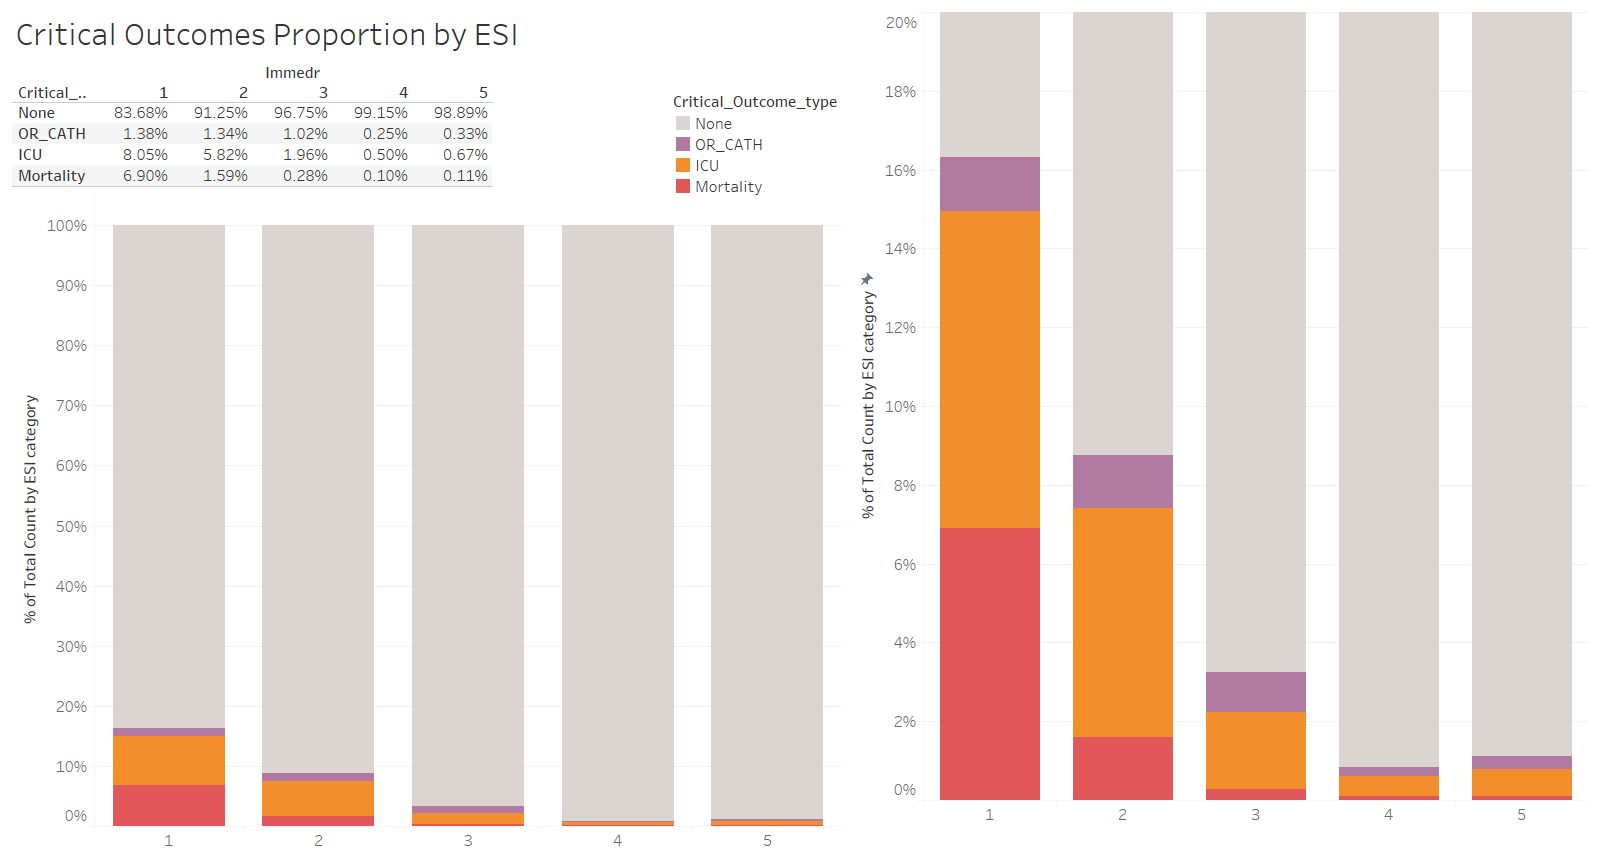

What the dashboard file says about the page in this screenshot:
{"tool":"tableau","page":{"name":"Dashboard 2","canvas":[1000,1000],"units":"permille","ordinal":1},"visuals":[{"type":"title","box":[6,13.3,523,83.2]},{"type":"worksheet","title":"Critical Outcomes Proportion","mark":"Automatic","cols":["IMMEDR"],"box":[529,13.3,465.1,973.4]},{"type":"worksheet","title":"Critical Outcomes Proportion (2)","mark":"Automatic","rows":["Calculation_663155077068849152"],"cols":["IMMEDR"],"box":[6,96.5,523,221.3]},{"type":"legend","title":"Critical Outcomes Proportion","param":"[federated.0lqj8g704y7h201dtm8pb11lsept].[none:Calculation_663155077068849152:nk","box":[418.2,100.7,115,179.6]},{"type":"worksheet","title":"Critical Outcomes Proportion (3)","mark":"Automatic","cols":["IMMEDR"],"box":[6,317.8,523,668.9]}]}

Visuals, with their boxes on the dashboard's canvas, which has no fixed pixel size, in thousandths of its width and height (x1, y1, x2, y2). These are canvas units, not pixel positions in the 1600x858 screenshot, which may show the page scaled, cropped or inside an application window:
title: BBox(6, 13, 529, 96)
"Critical Outcomes Proportion" worksheet: BBox(529, 13, 994, 987)
"Critical Outcomes Proportion (2)" worksheet: BBox(6, 96, 529, 318)
"Critical Outcomes Proportion" legend: BBox(418, 101, 533, 280)
"Critical Outcomes Proportion (3)" worksheet: BBox(6, 318, 529, 987)
